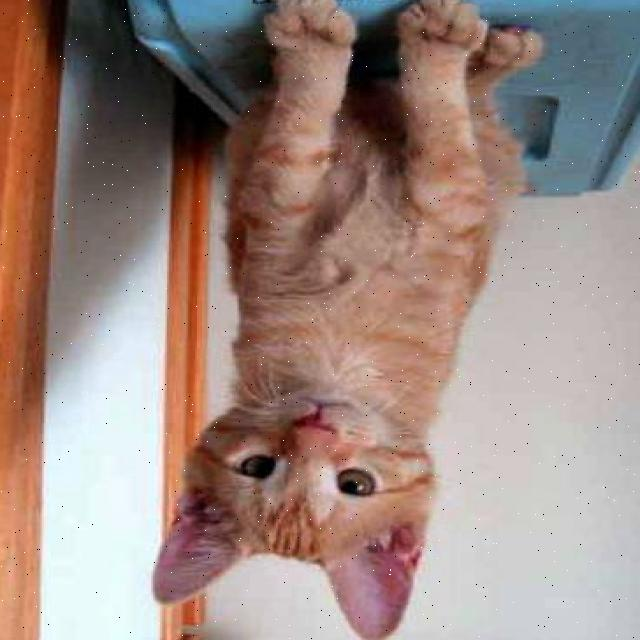Cat: (153, 364, 476, 625)
